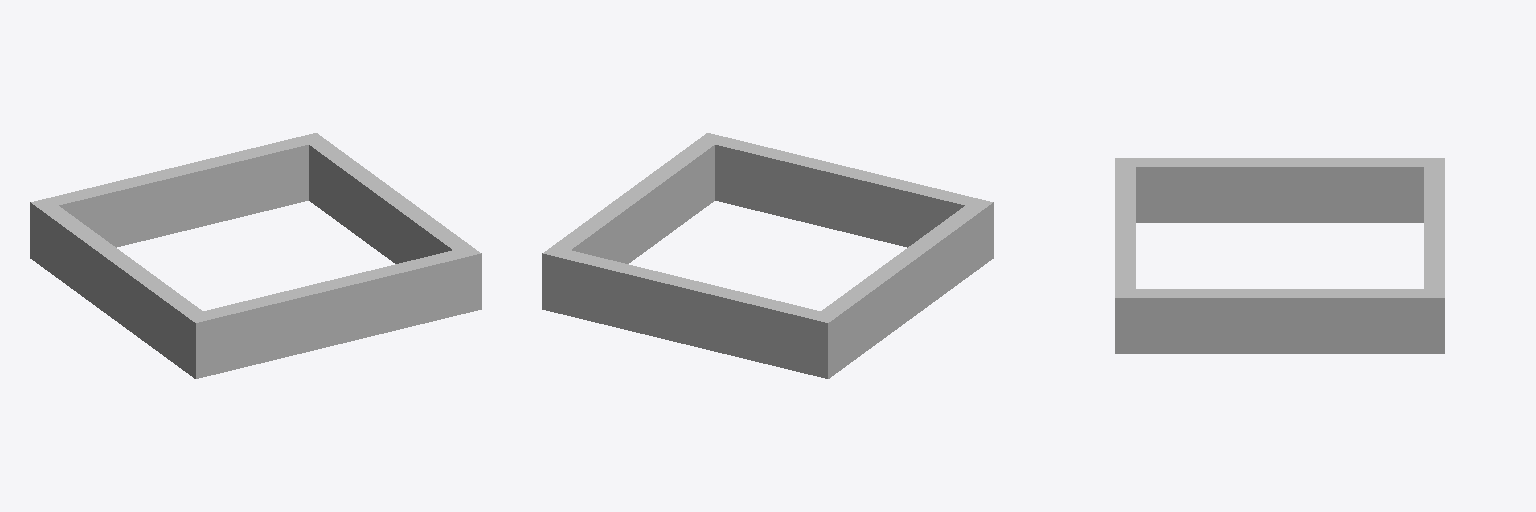
Rendered from Frame.obj.
3 views of the same model, side by side, from view 1: azimuth 30°, elevation 25°; view 2: azimuth 150°, elevation 25°; view 3: azimuth 270°, elevation 25° (orthographic).
Parts seen in each view (by area): view 1: object 1; view 2: object 1; view 3: object 1.
Boxes of the visible parts, x1,y1,x2,y2 form: object 1: [30, 133, 481, 378]; object 1: [542, 133, 993, 378]; object 1: [1115, 158, 1444, 353].
Bounding box in the file's own units: 1.6 × 0.3 × 1.6.